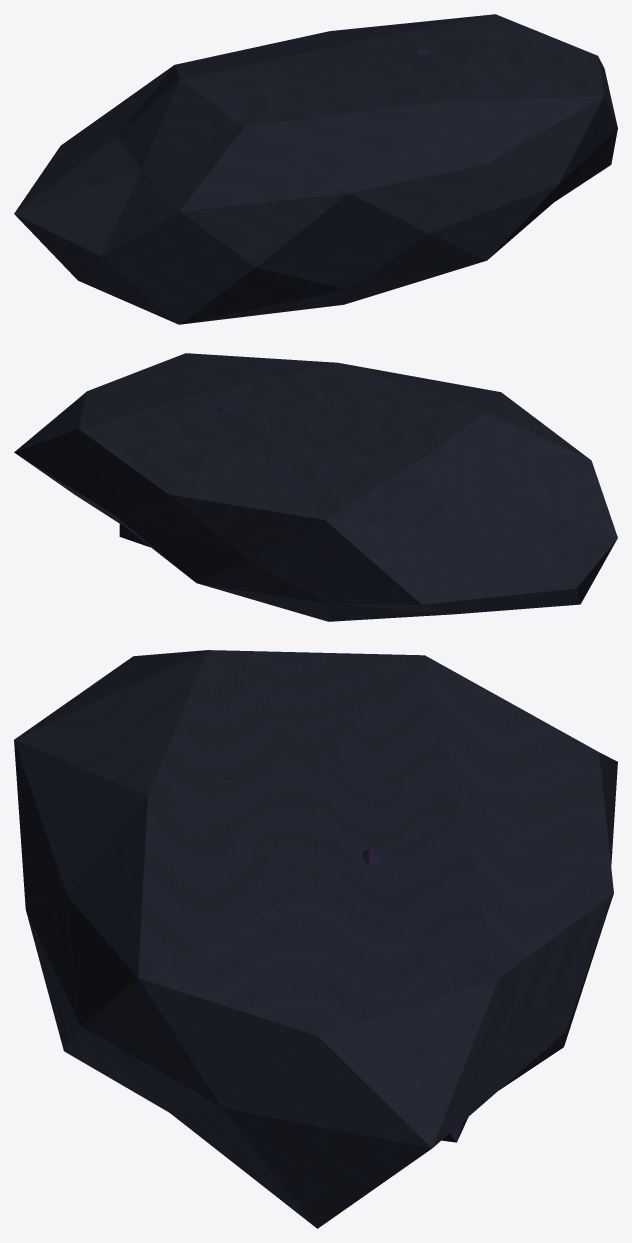
Rendered from BasaltRock_B.fbx.
The picture shows the model from 3 angles, top to bottom: view 1: azimuth 30°, elevation 25°; view 2: azimuth 150°, elevation 25°; view 3: azimuth 270°, elevation 25°; orthographic projection. The views are drawn at different scales.
Parts seen in each view (by area): view 1: SM_BasaltRock_B; view 2: SM_BasaltRock_B; view 3: SM_BasaltRock_B.
Part boxes in pixels (bbox=[...]): SM_BasaltRock_B: bbox=[14, 14, 617, 324]; SM_BasaltRock_B: bbox=[14, 353, 617, 621]; SM_BasaltRock_B: bbox=[14, 650, 617, 1228].
Size of the model in its own units: 428 by 233 by 129.
Materials: 1 (1 with a texture image).
